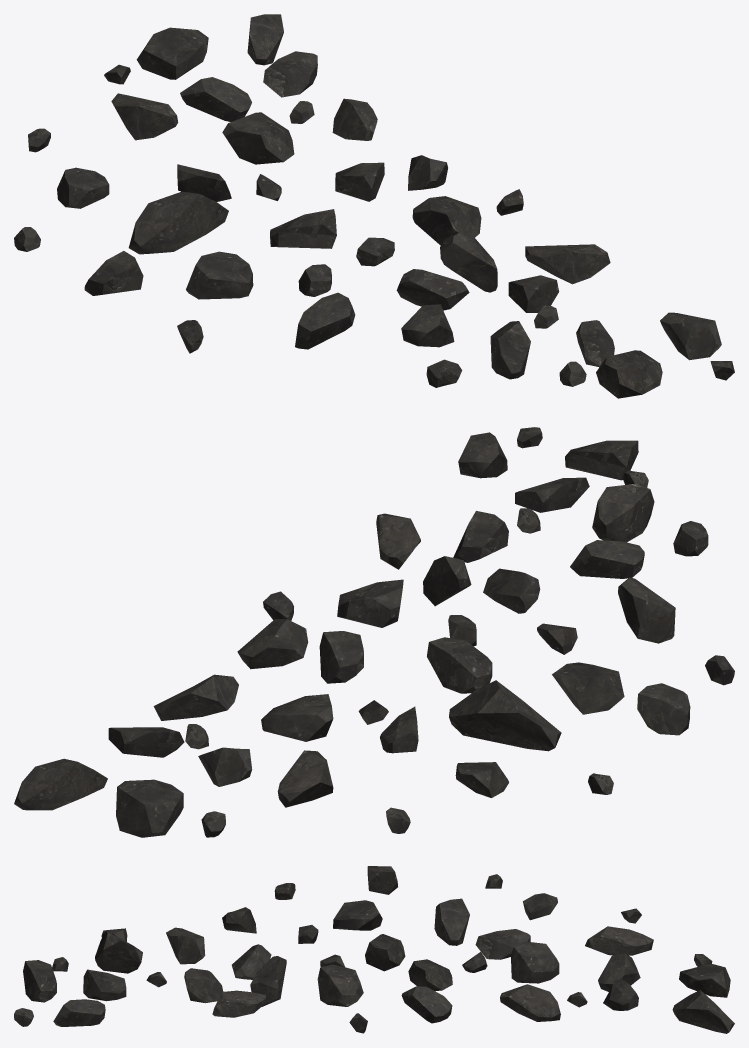
The picture shows the model from 3 angles, top to bottom: view 1: azimuth 30°, elevation 25°; view 2: azimuth 150°, elevation 25°; view 3: azimuth 270°, elevation 25°; orthographic projection. The views are drawn at different scales.
Parts seen in each view (by area): view 1: SM_DR_Rubble_Small_04_LOD0; view 2: SM_DR_Rubble_Small_04_LOD0; view 3: SM_DR_Rubble_Small_04_LOD0.
Boxes of the visible parts, x1,y1,x2,y2 form: SM_DR_Rubble_Small_04_LOD0: (14,14,734,398); SM_DR_Rubble_Small_04_LOD0: (14,427,734,837); SM_DR_Rubble_Small_04_LOD0: (14,866,734,1033).
Size of the model in its own units: 3.73 by 0.4914 by 7.4.
1 material, 1 textured.
